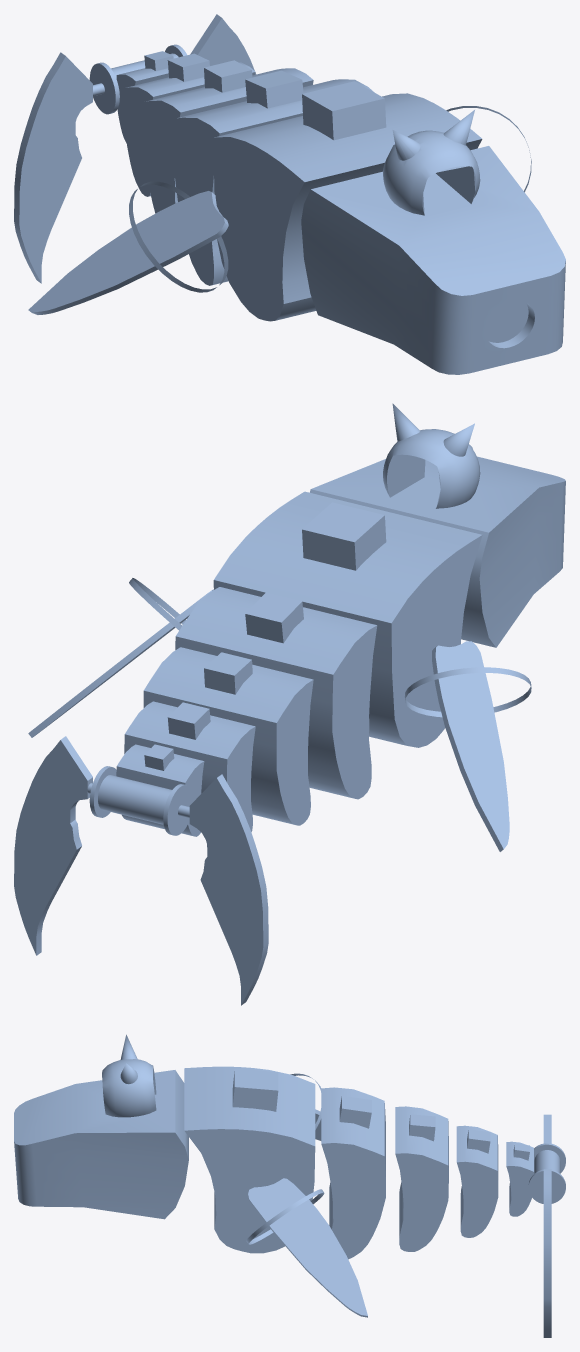
The model's file is WhaleShip.fbx.
3 views of the same model, one above another, from view 1: azimuth 30°, elevation 25°; view 2: azimuth 150°, elevation 25°; view 3: azimuth 270°, elevation 25° (orthographic). The views are drawn at different scales.
Parts seen in each view (by area): view 1: Cube; view 2: Cube; view 3: Cube.
Boxes of the visible parts, x1=… form: Cube: x1=14, y1=14, x2=565, y2=374; Cube: x1=14, y1=403, x2=565, y2=1005; Cube: x1=14, y1=1034, x2=565, y2=1337.
Bounding box in the file's own units: 296 × 209 × 413.
